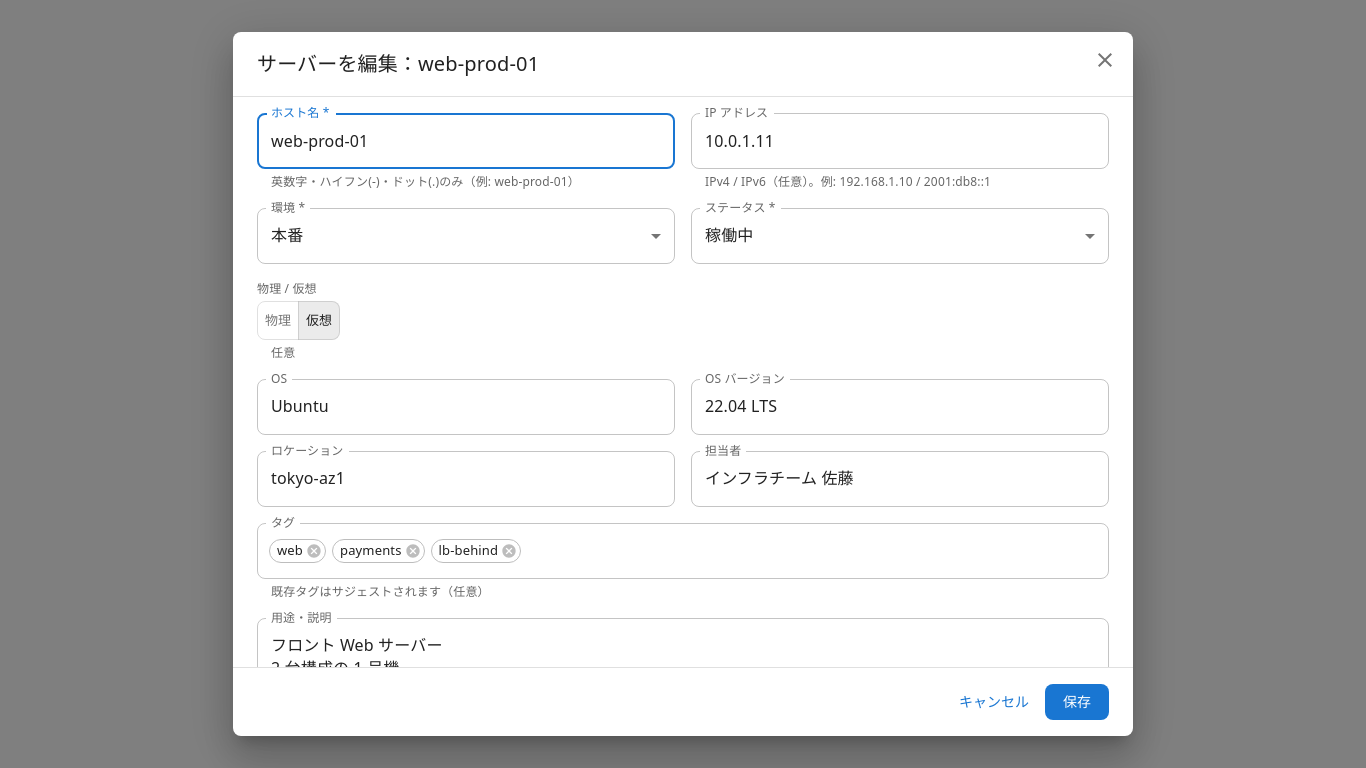
ServerFormModal (edit) › 409 OPTIMISTIC_LOCK_CONFLICT で再読み込み確認ダイアログを表示する
The image size is (1366, 768).
Step 1. Click the button "保存" → (1077, 702), box [1045, 684, 1109, 720]
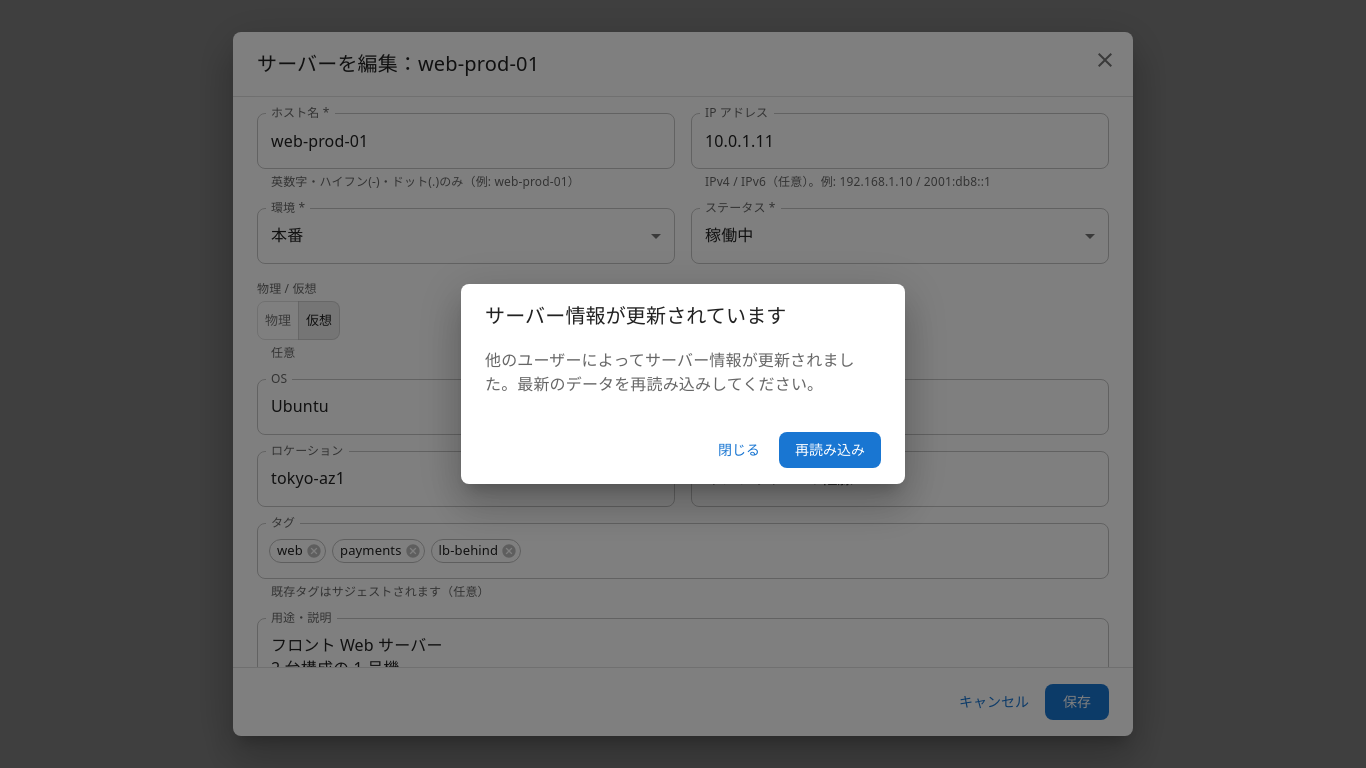
Expected: the text "他のユーザーによってサーバー情報が更新されました。最新のデータを再読み込みしてください。" is shown, [485, 348, 881, 396]
Expected: the button "再読み込み" is shown, [779, 432, 881, 468]
